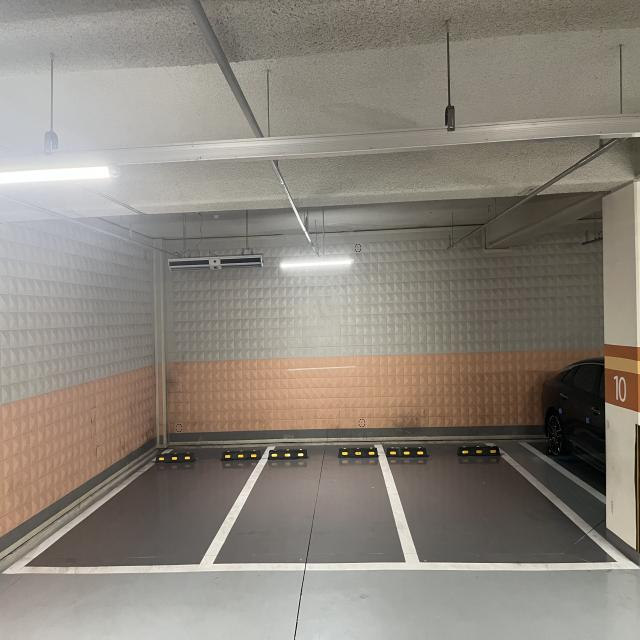empty: (1, 443, 273, 575), (380, 437, 640, 571), (194, 438, 416, 576)
